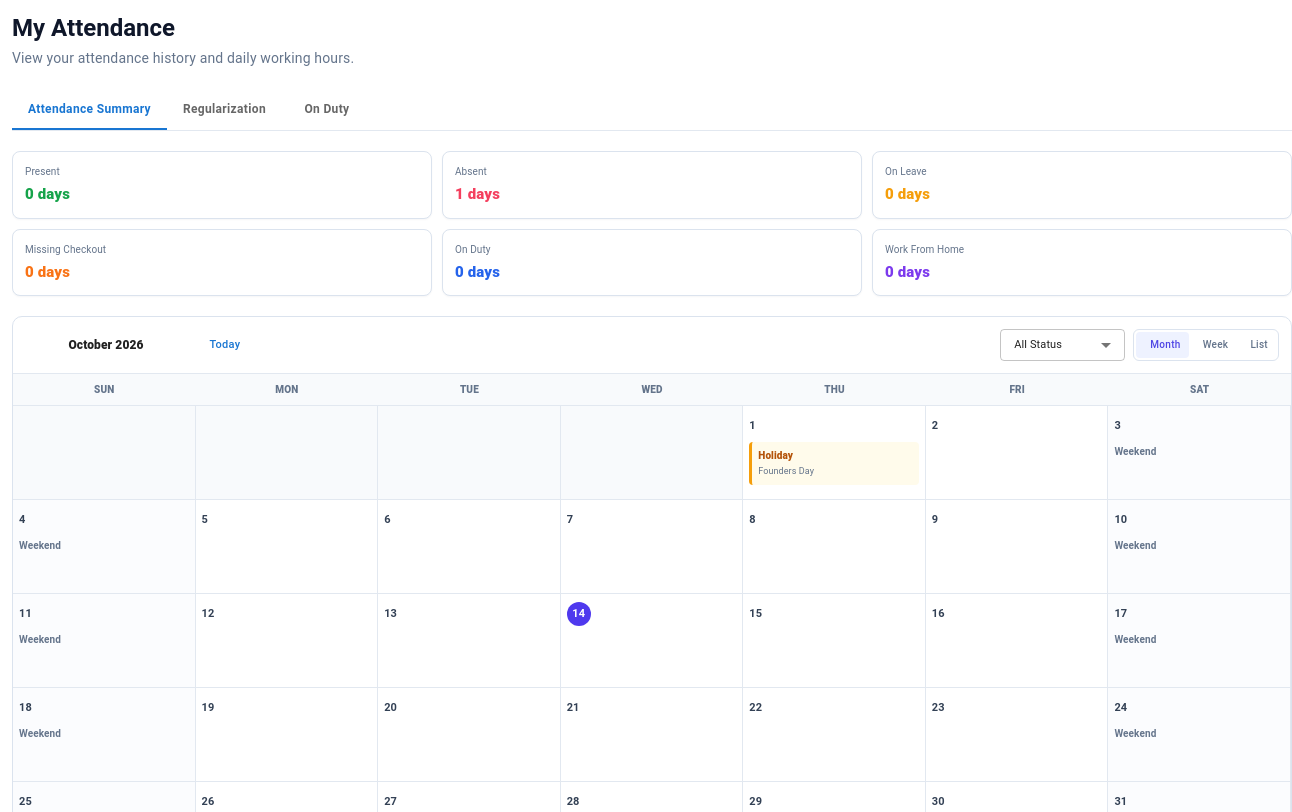
keeps holiday labels over stale absences in calendar views but preserves history in the list
Check: the text "Founders Day" is shown, box top-left (758, 466), bottom-right (814, 476)
What coordinates should you click on to do the following:
click the button "Week"
I would click on:
 (1212, 345)
Its box is top-left (1189, 332), bottom-right (1236, 358).
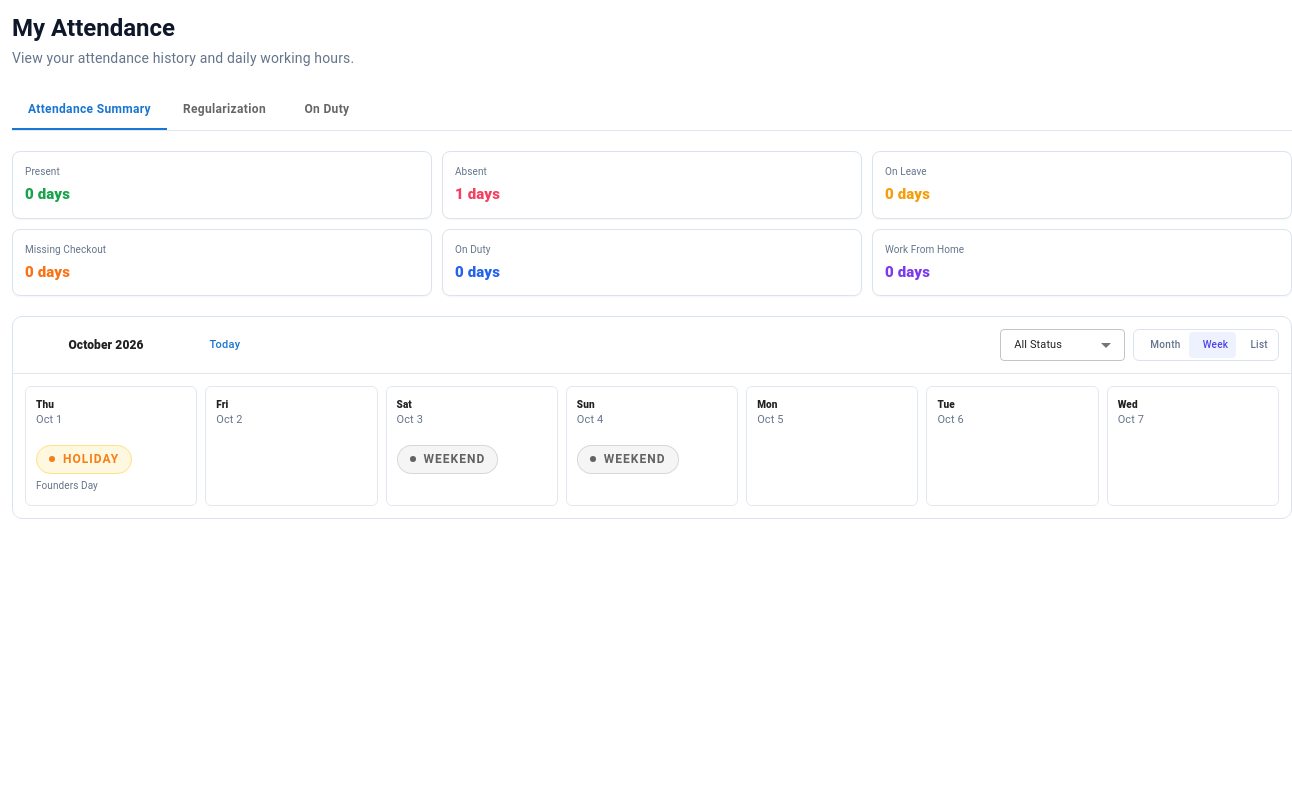
Check: the text "Founders Day" is shown, box top-left (36, 480), bottom-right (98, 491)
What coordinates should you click on to do the following:
click the button "List"
I would click on:
 (1256, 345)
Its box is top-left (1236, 332), bottom-right (1276, 358).
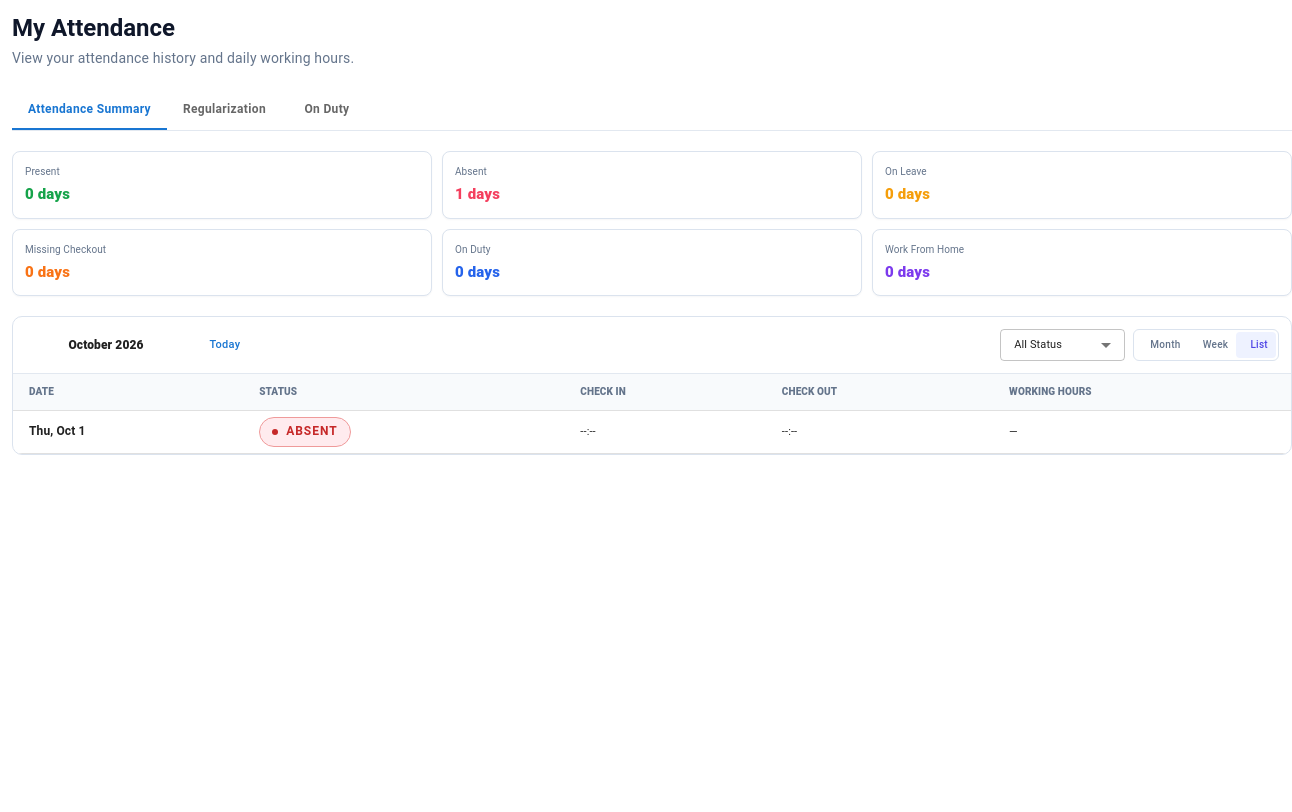
Check: the row "Thu, Oct 1 Absent --:-- --:-- —" is shown, box top-left (13, 410), bottom-right (1291, 453)
